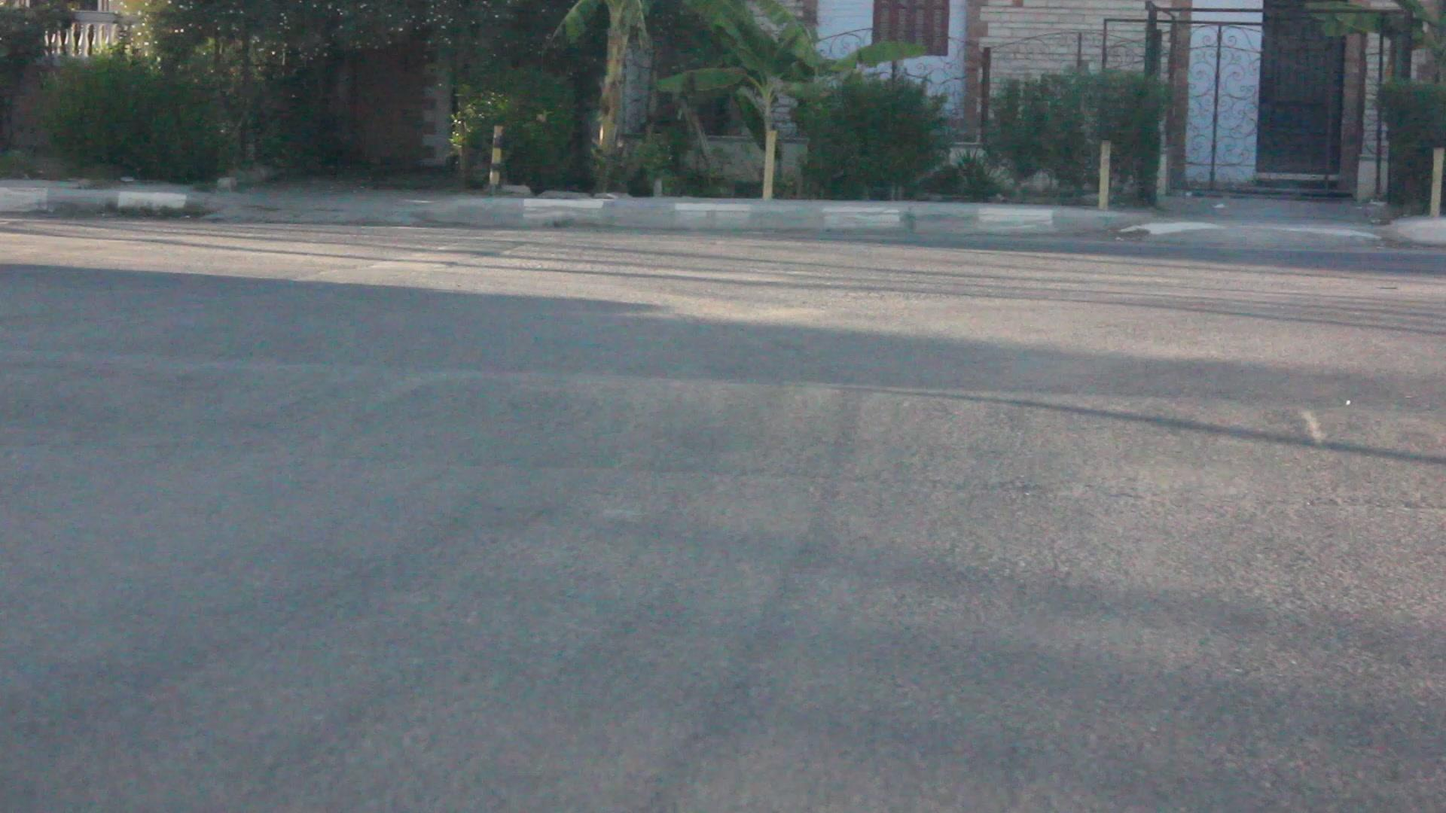Bump: (0, 346, 1446, 499)
